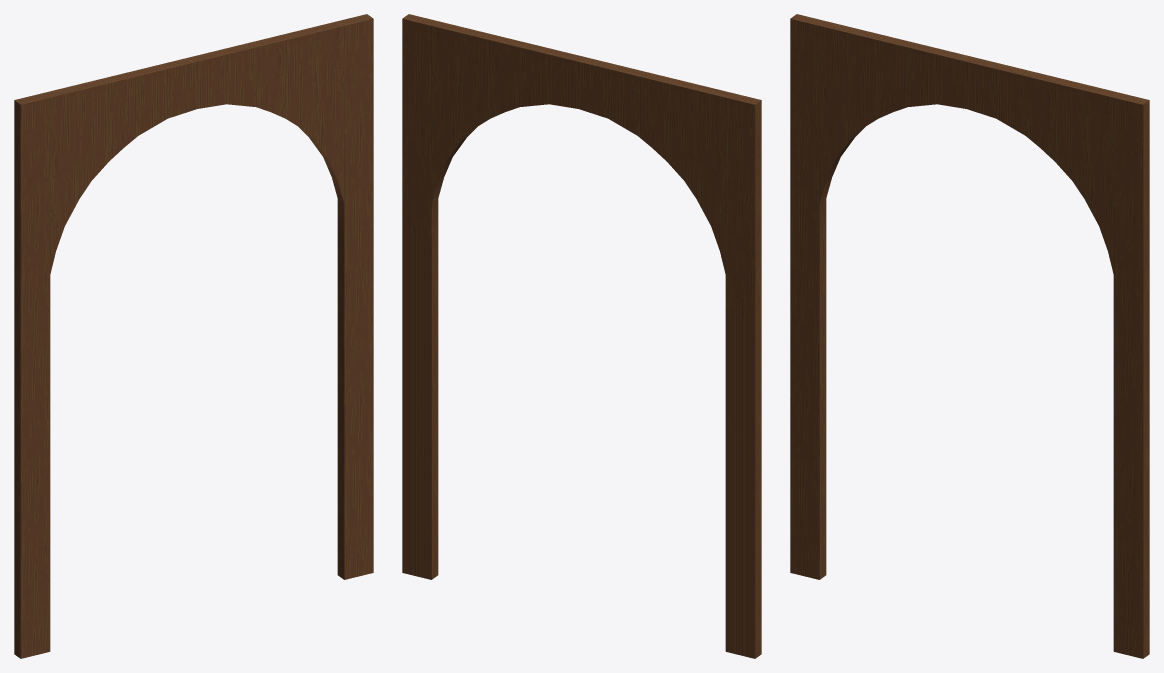
3 renders of one model, left to right at view 1: azimuth 30°, elevation 25°; view 2: azimuth 150°, elevation 25°; view 3: azimuth 330°, elevation 25°, orthographic.
Visible parts, largest first — view 1: b4811c76011353dcb6670df44990e1f9e28ab5be134b9663aa2776e86f28; view 2: b4811c76011353dcb6670df44990e1f9e28ab5be134b9663aa2776e86f28; view 3: b4811c76011353dcb6670df44990e1f9e28ab5be134b9663aa2776e86f28.
Boxes of the visible parts, bbox=[...] form: b4811c76011353dcb6670df44990e1f9e28ab5be134b9663aa2776e86f28: bbox=[14, 14, 373, 658]; b4811c76011353dcb6670df44990e1f9e28ab5be134b9663aa2776e86f28: bbox=[402, 14, 761, 658]; b4811c76011353dcb6670df44990e1f9e28ab5be134b9663aa2776e86f28: bbox=[790, 14, 1149, 658].
Size of the model in its own units: 2 by 3 by 0.064.
Materials: 1 (1 with a texture image).
